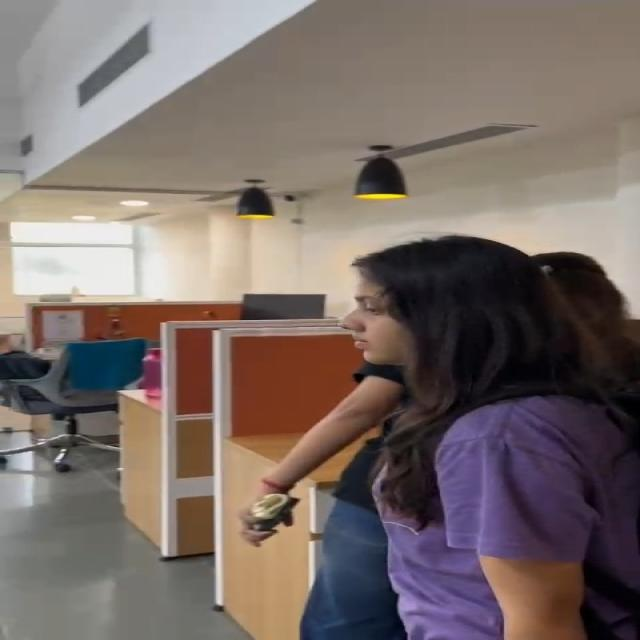floor: (0, 485, 155, 640)
furniture: (0, 324, 159, 479)
moving_object: (328, 242, 640, 634)
wall: (0, 3, 640, 236)
